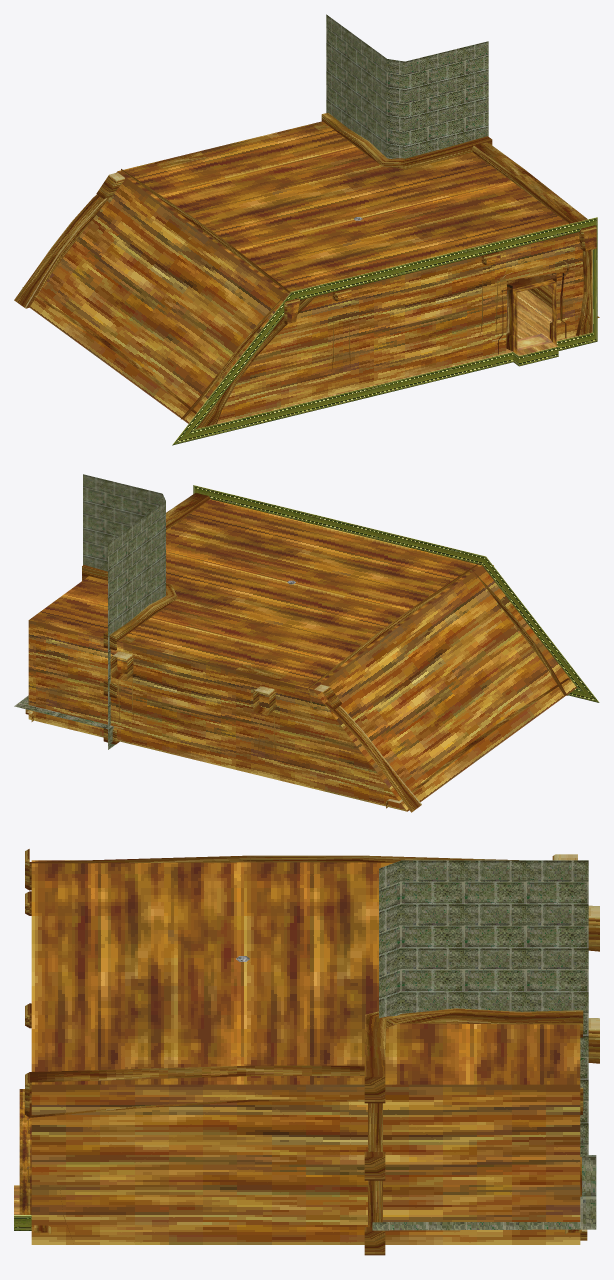
Rendered from room_55.glb.
The picture shows the model from 3 angles, top to bottom: view 1: azimuth 30°, elevation 25°; view 2: azimuth 150°, elevation 25°; view 3: azimuth 270°, elevation 25°; orthographic projection. The views are drawn at different scales.
Visible parts, largest first — view 1: room_55; view 2: room_55; view 3: room_55.
Boxes of the visible parts, box(x1,y1,x2,y2) form: room_55: box(14, 14, 599, 445); room_55: box(14, 474, 599, 812); room_55: box(14, 849, 599, 1255).
Bounding box in the file's own units: 2179 × 1047 × 1656.
Materials: 16 (16 with a texture image).
